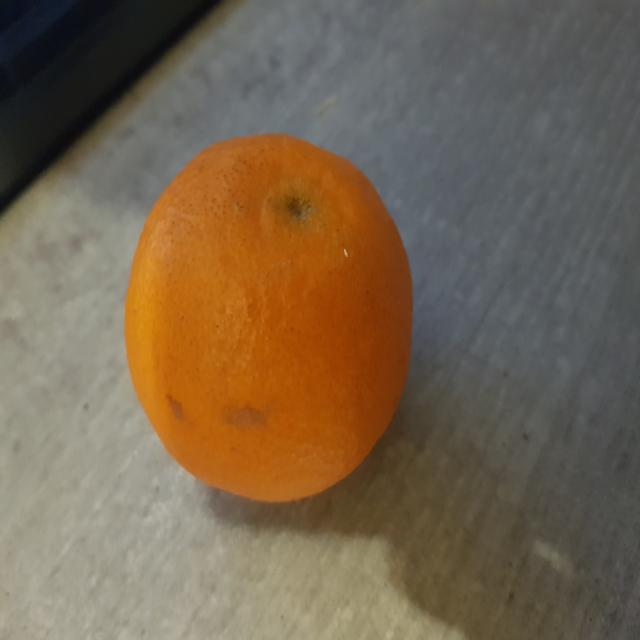Orange: (123, 133, 415, 506)
